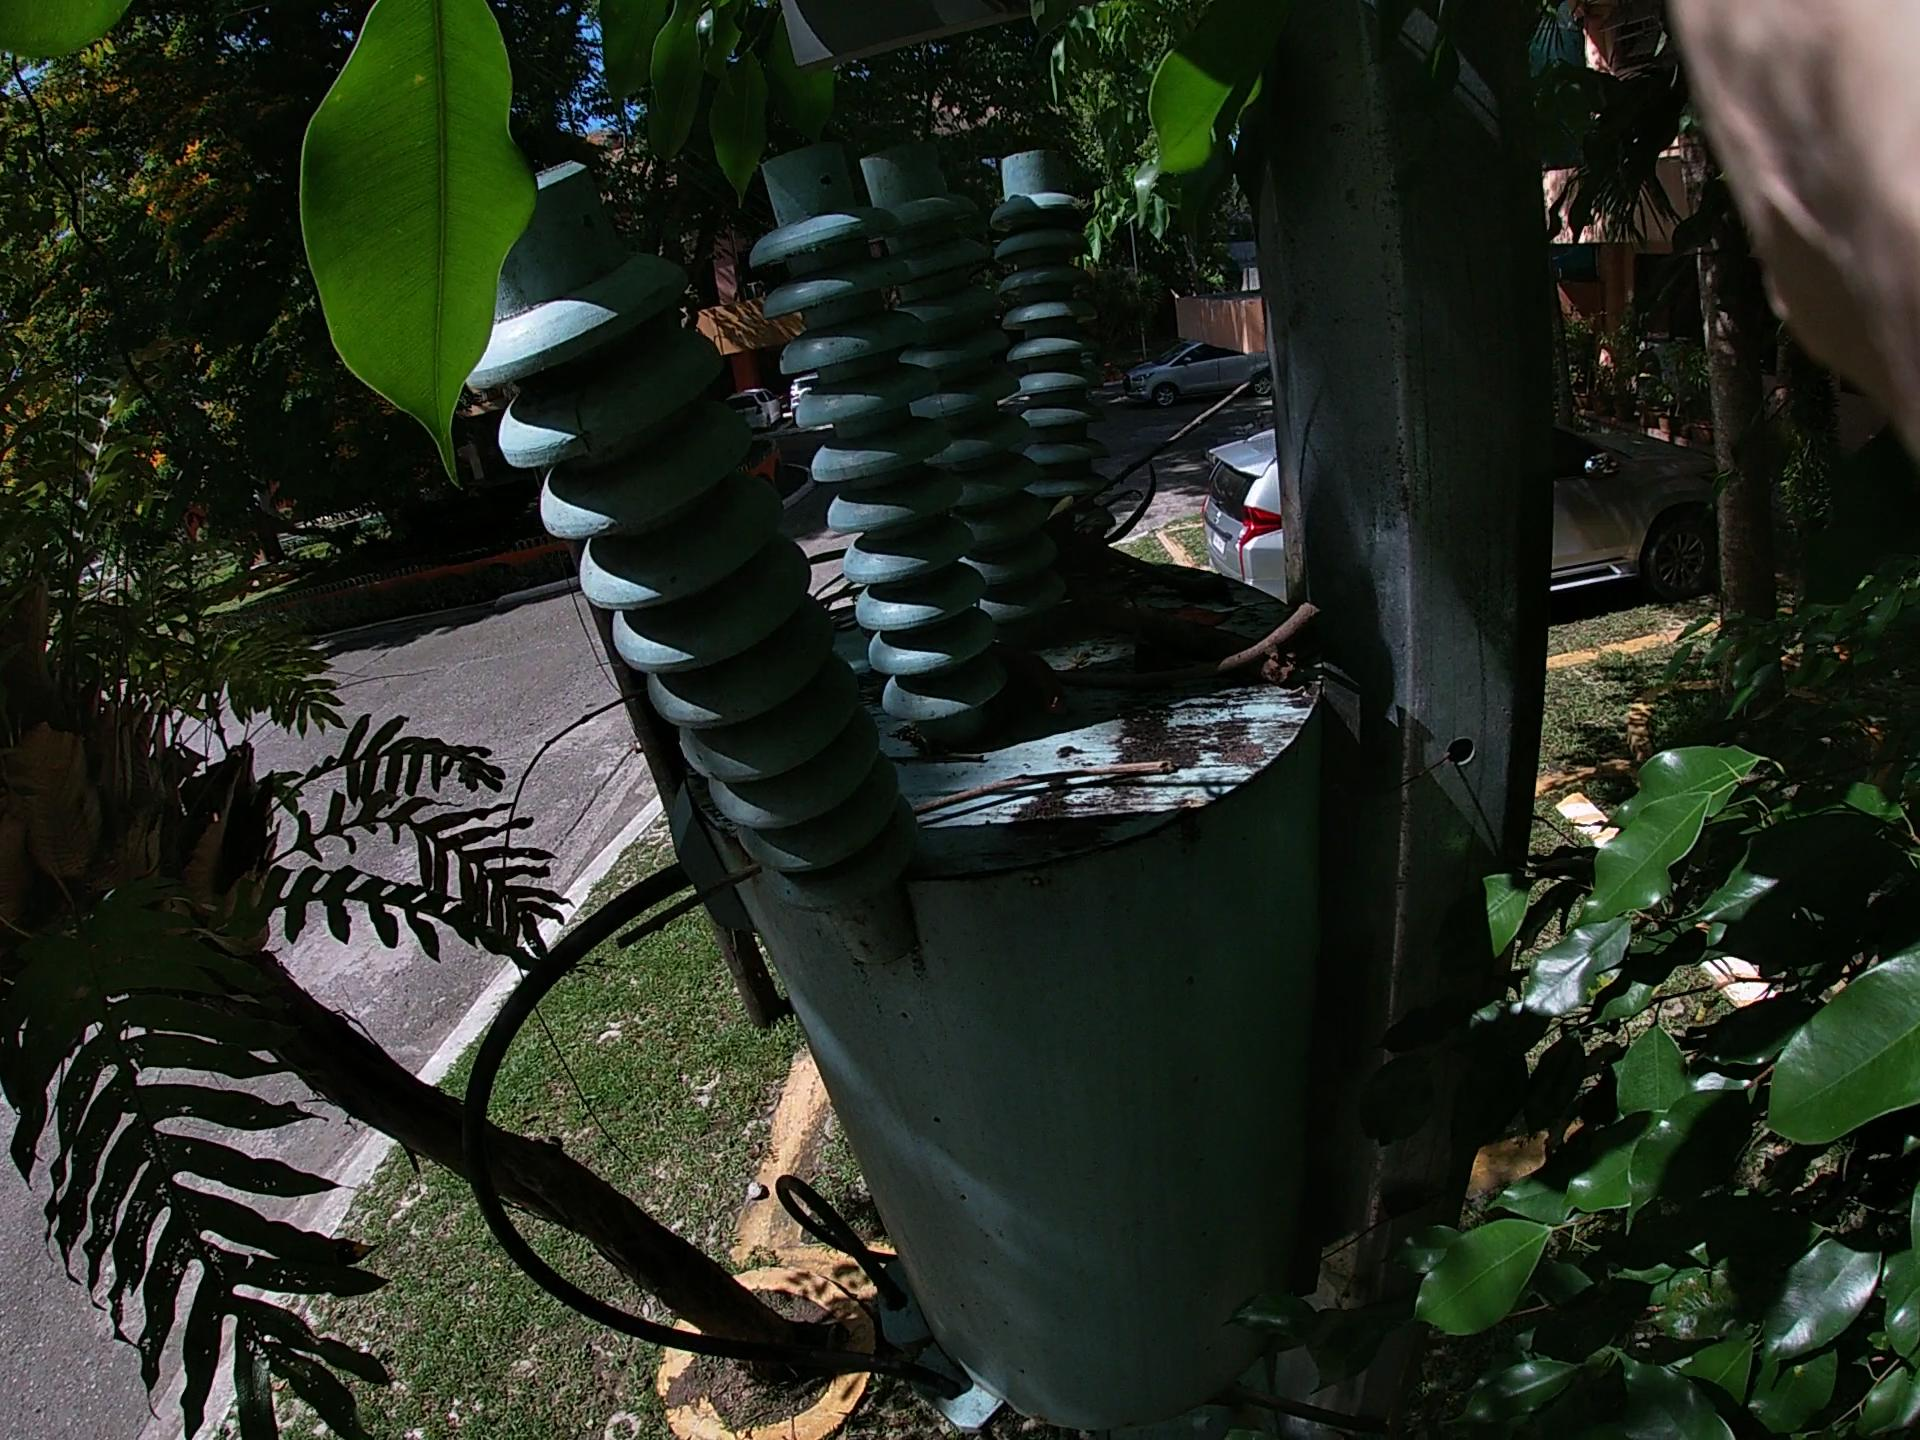branch with leaves: (797, 389, 1281, 700)
leaf: (1117, 532, 1219, 682)
tree branch: (574, 717, 1262, 962), (996, 296, 1342, 631), (797, 594, 1346, 802), (977, 446, 1222, 597)
